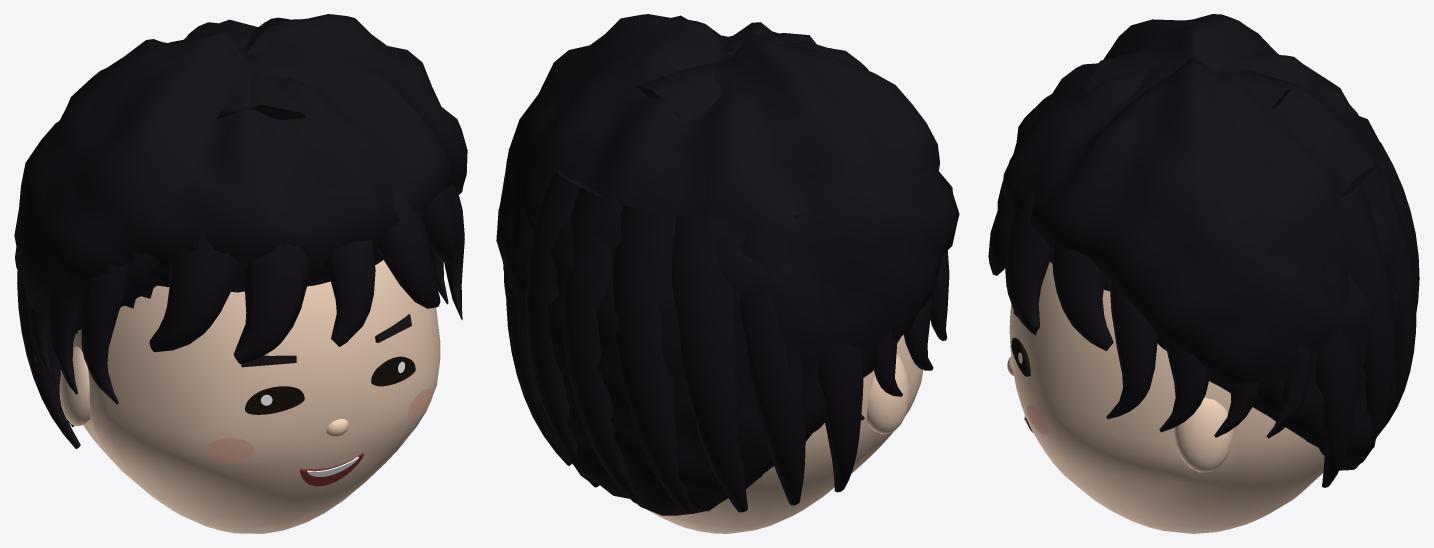
File: barista-head.glb
3 renders of one model, left to right at view 1: azimuth 30°, elevation 25°; view 2: azimuth 150°, elevation 25°; view 3: azimuth 270°, elevation 25°, orthographic. The views are drawn at different scales.
Visible parts, largest first — view 1: Hair, Face, EarR, EyeR, BlushR, EyeL, Mouth; view 2: Hair, Face, EarR; view 3: Hair, Face, EarL.
Boxes of the visible parts, x1,y1,x2,y2 form: Hair: [14, 14, 467, 448]; Face: [60, 260, 440, 533]; EarR: [59, 346, 90, 426]; EyeR: [245, 386, 304, 414]; BlushR: [206, 438, 253, 462]; EyeL: [371, 356, 415, 386]; Mouth: [300, 453, 363, 486]; Hair: [496, 14, 959, 515]; Face: [648, 335, 923, 533]; EarR: [866, 354, 909, 434]; Hair: [988, 14, 1419, 487]; Face: [1009, 262, 1324, 533]; EarL: [1174, 398, 1233, 472].
Size of the model in its own units: 0.5181 by 0.5899 by 0.4788.
